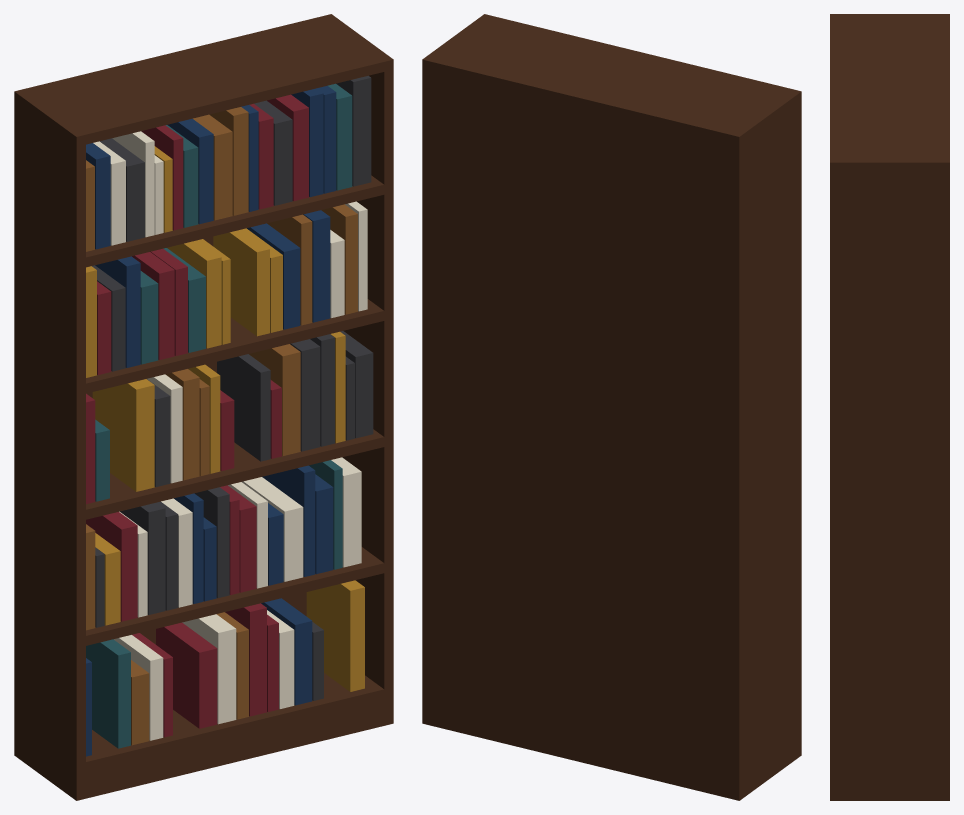
Rendered from bookshelf.glb.
3 views of the same model, side by side, from view 1: azimuth 30°, elevation 25°; view 2: azimuth 150°, elevation 25°; view 3: azimuth 270°, elevation 25° (orthographic). The views are drawn at different scales.
Bounding box in the file's own units: 1 × 2 × 0.34.
